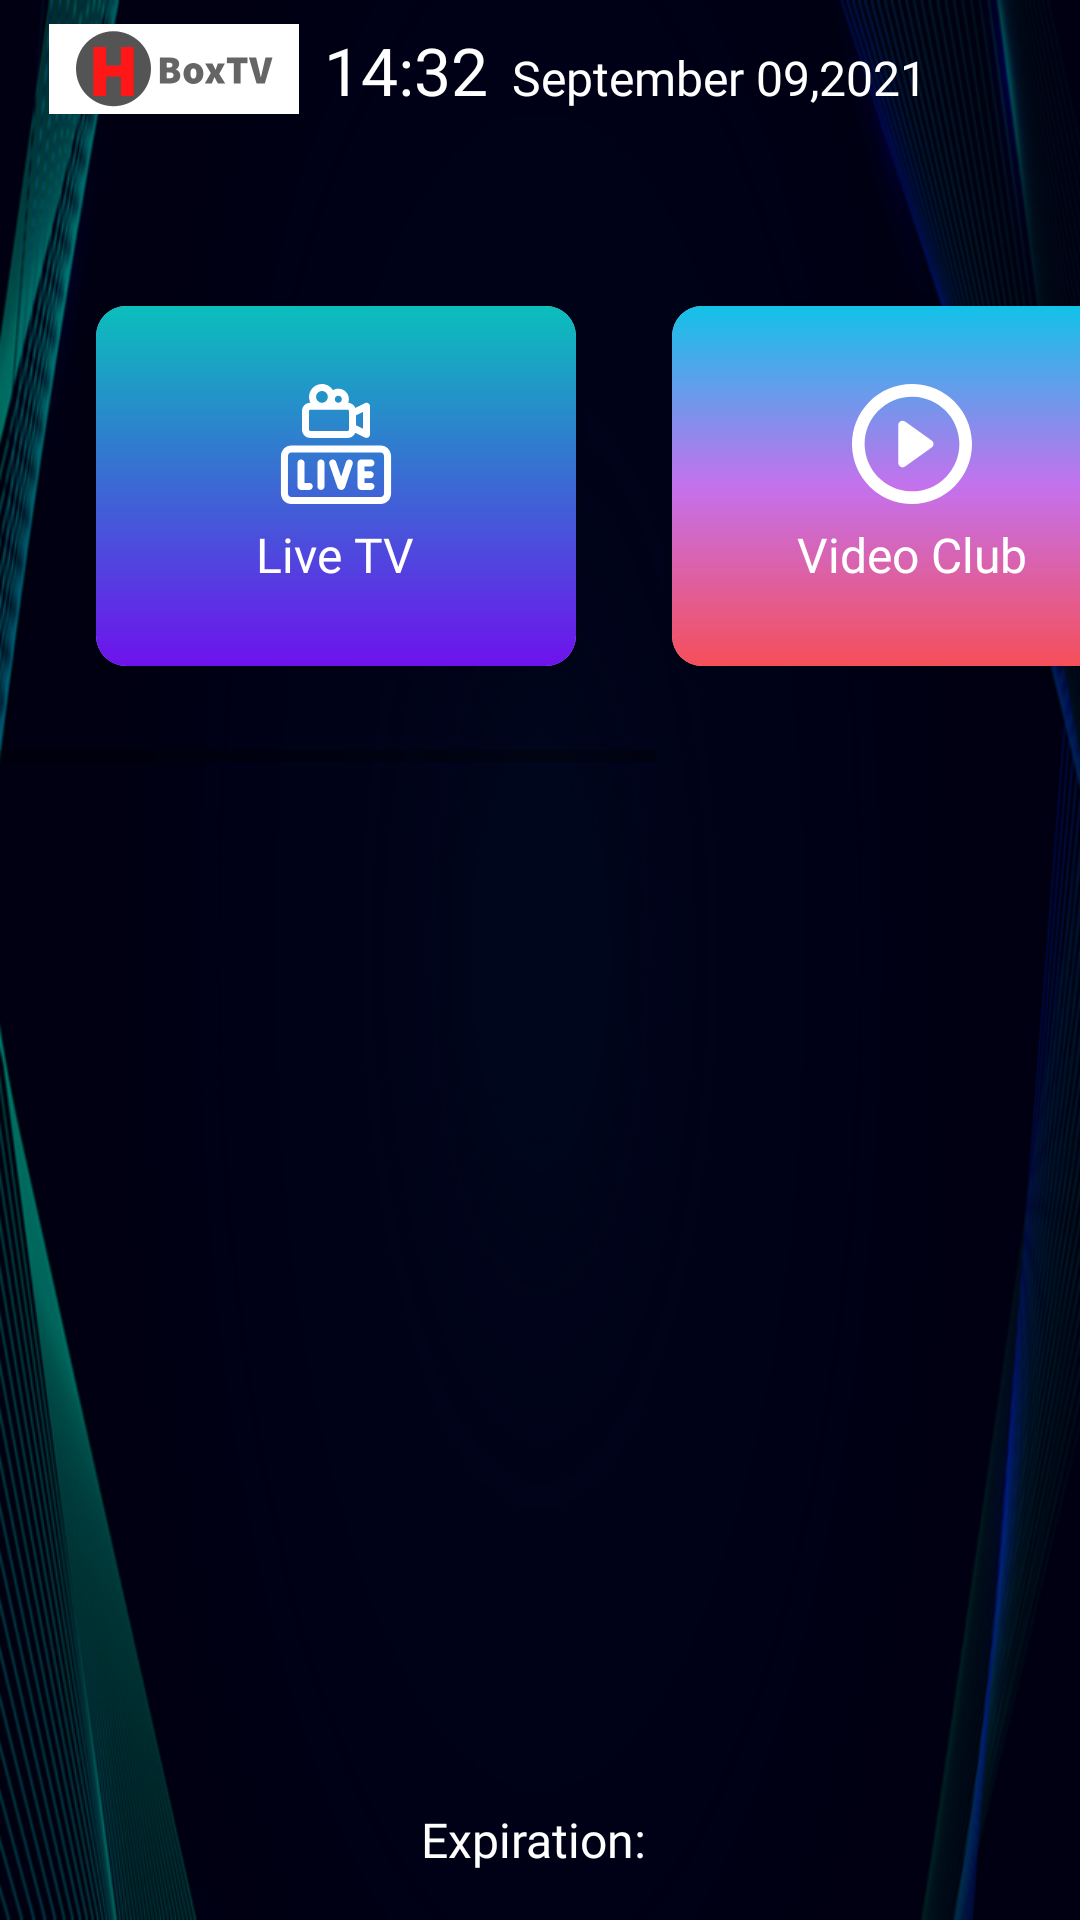

Screen size 1080 × 1920. Icon name, then its center in pixels as point (x, y):
play: point (912, 444)
